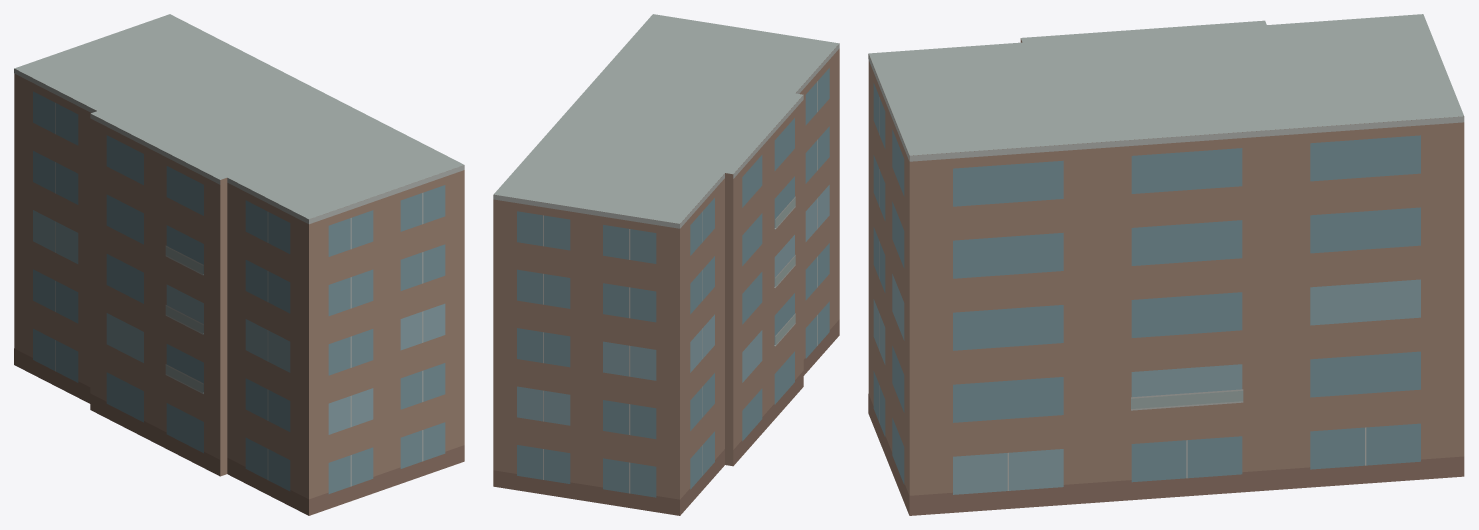
Rendered from survey-upis-32972284.glb.
3 views of the same model, side by side, from view 1: azimuth 30°, elevation 25°; view 2: azimuth 150°, elevation 25°; view 3: azimuth 270°, elevation 25° (orthographic). The views are drawn at different scales.
Visible parts, largest first — view 1: survey-upis-32972284.tmp; view 2: survey-upis-32972284.tmp; view 3: survey-upis-32972284.tmp.
Part boxes in pixels (box(x1,y1,x2,y2)): survey-upis-32972284.tmp: box(14, 14, 464, 515); survey-upis-32972284.tmp: box(493, 14, 839, 515); survey-upis-32972284.tmp: box(868, 14, 1464, 515).
Size of the model in its own units: 12.33 by 14.6 by 21.9.
